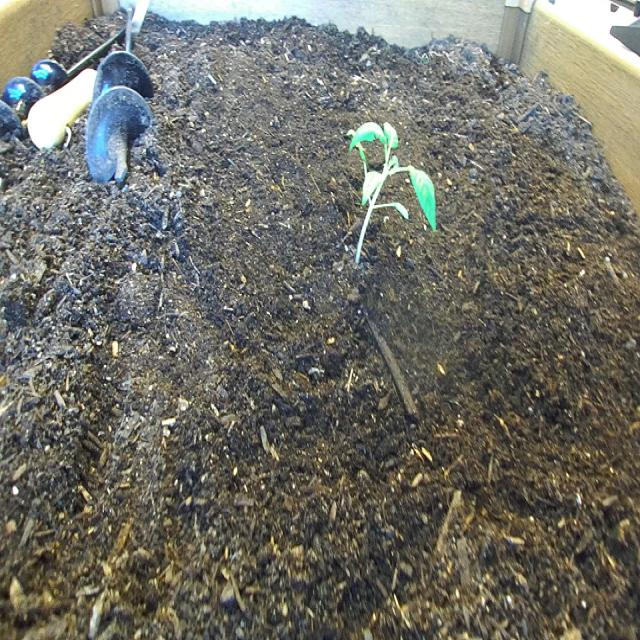Healthy: (339, 107, 446, 287)
